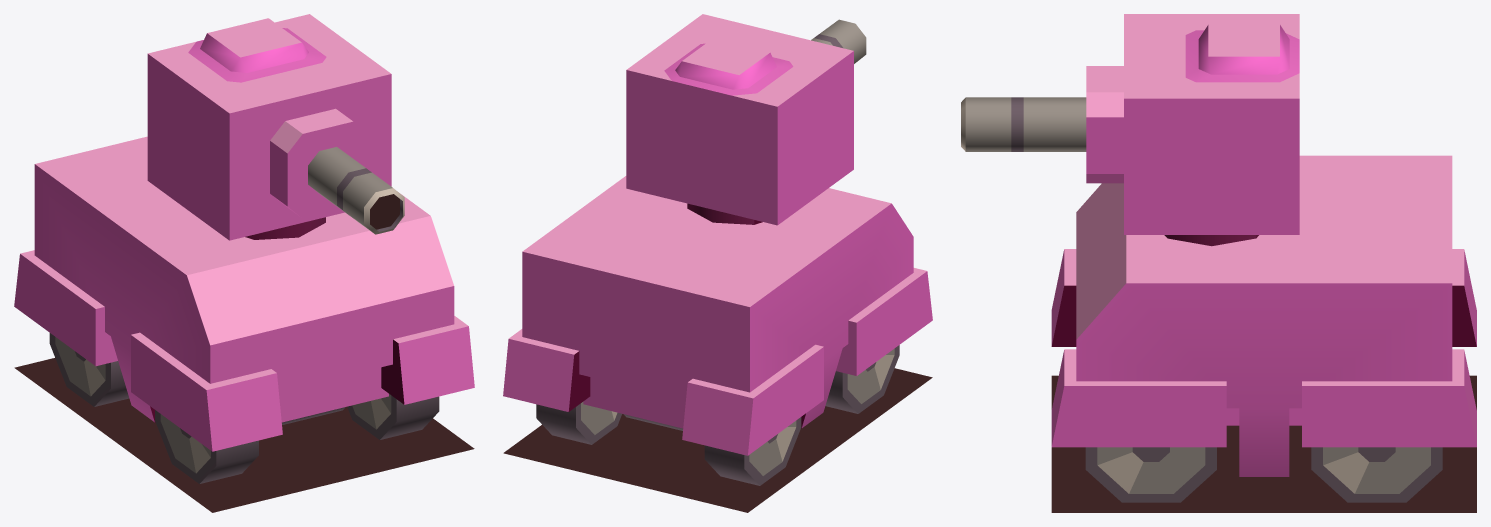
The model's file is ReconMesh.PinkCosmos.glb.
The picture shows the model from 3 angles, left to right: view 1: azimuth 30°, elevation 25°; view 2: azimuth 150°, elevation 25°; view 3: azimuth 270°, elevation 25°; orthographic projection. The views are drawn at different scales.
Visible parts, largest first — view 1: ReconMesh.PinkCosmos; view 2: ReconMesh.PinkCosmos; view 3: ReconMesh.PinkCosmos.
Boxes of the visible parts, x1,y1,x2,y2 form: ReconMesh.PinkCosmos: [14, 14, 474, 512]; ReconMesh.PinkCosmos: [503, 14, 932, 512]; ReconMesh.PinkCosmos: [961, 14, 1476, 512].
Bounding box in the file's own units: 1.29 × 1.79 × 2.06.
Materials: 1 (1 with a texture image).
